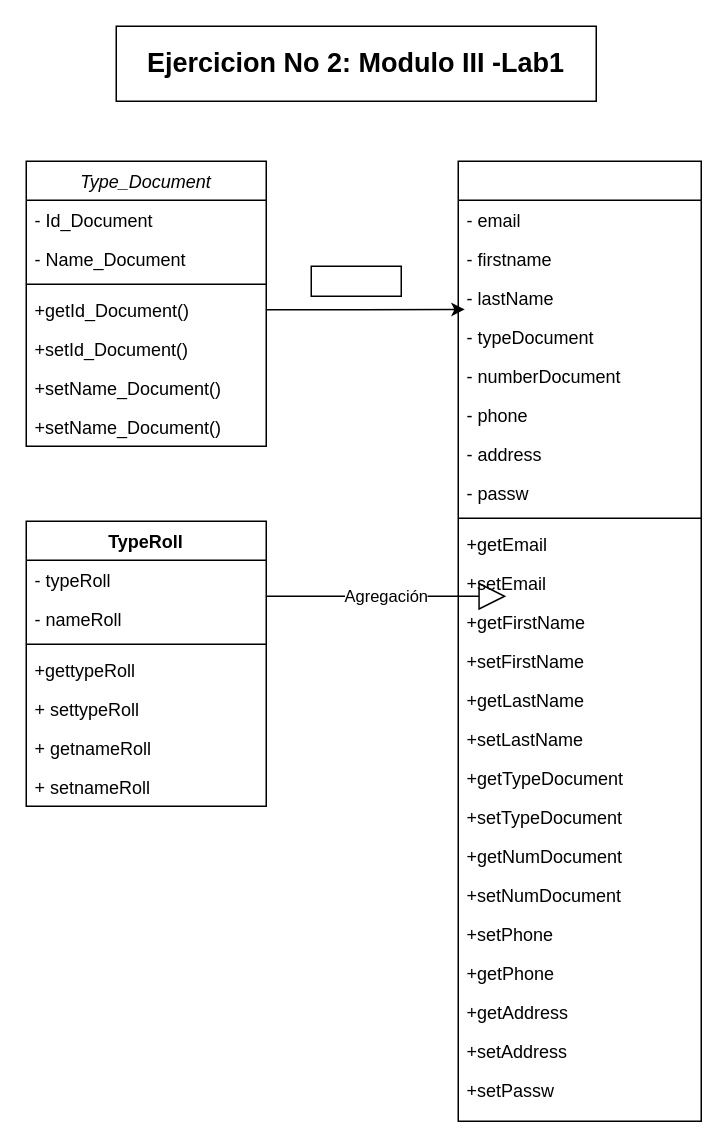
The diagram is 728 pixels wide and 1148 high, and some of its shapes have lost their labels. Here are the shapes that lost their labels. From the top down, the box of each, then its label:
(310, 265, 401, 296): Herencia
(457, 160, 701, 1121): Users
